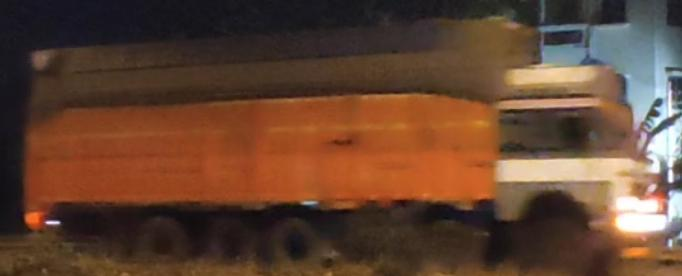Truck: (17, 25, 658, 276)
